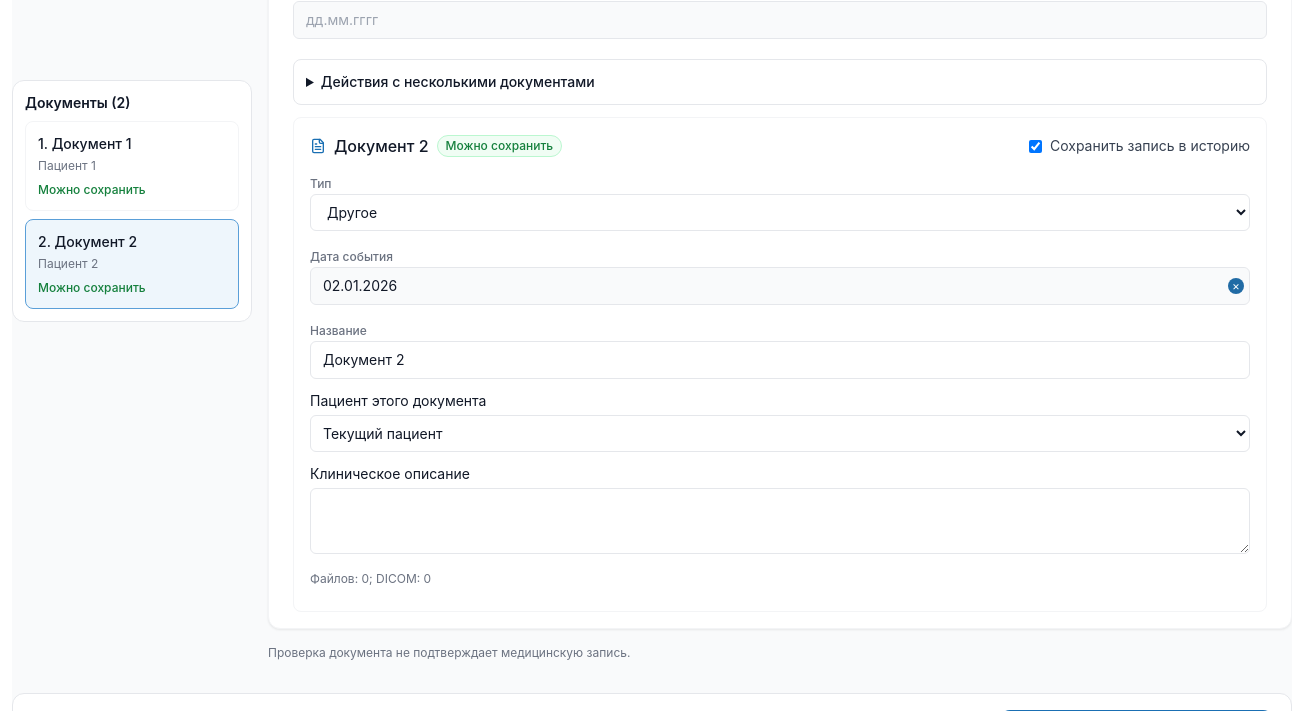
Test case: keeps the selected group and edited values after moving it to another patient
This screenshot has width=1292, height=711.
(page scrolled)
Replace the text in the field labelled "Название" with "Документ после сверки" at (780, 360), box [310,341,1250,379]
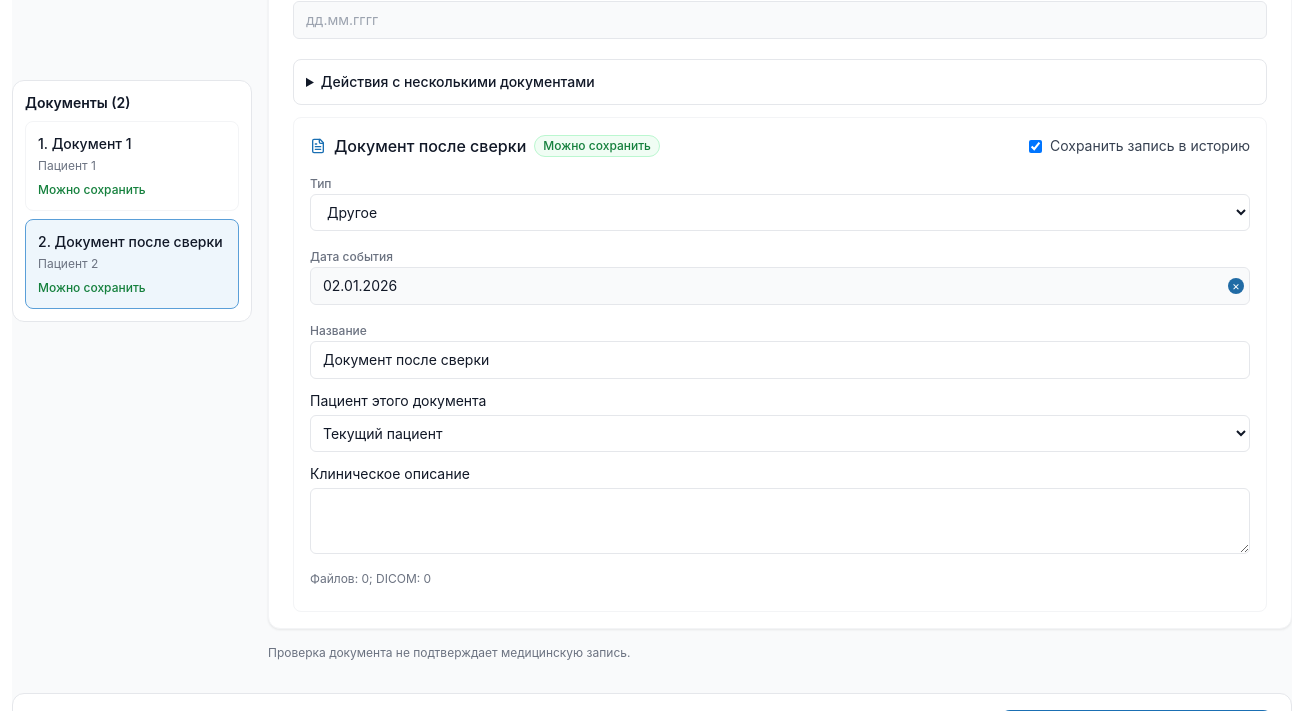
Select "Пациент 1" in the dropdown labelled "Пациент этого документа" at (780, 434), box [310,415,1250,452]
(page scrolled)
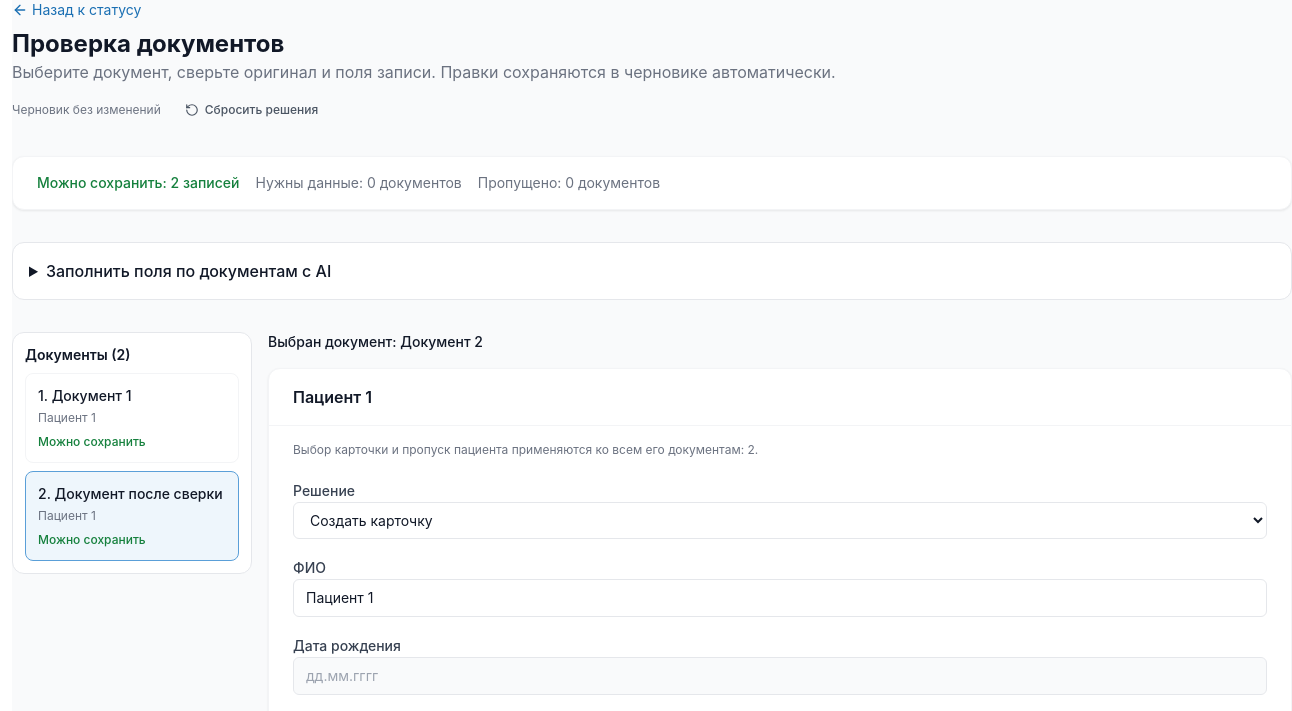
Now the field labelled "ФИО" holds "Пациент 1", box [293,579,1267,617]
